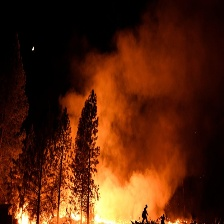fire: (12, 208, 130, 224), (166, 213, 189, 224)
smoke: (12, 24, 204, 212)
